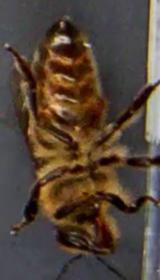varroa_mite: (90, 94, 105, 117)
